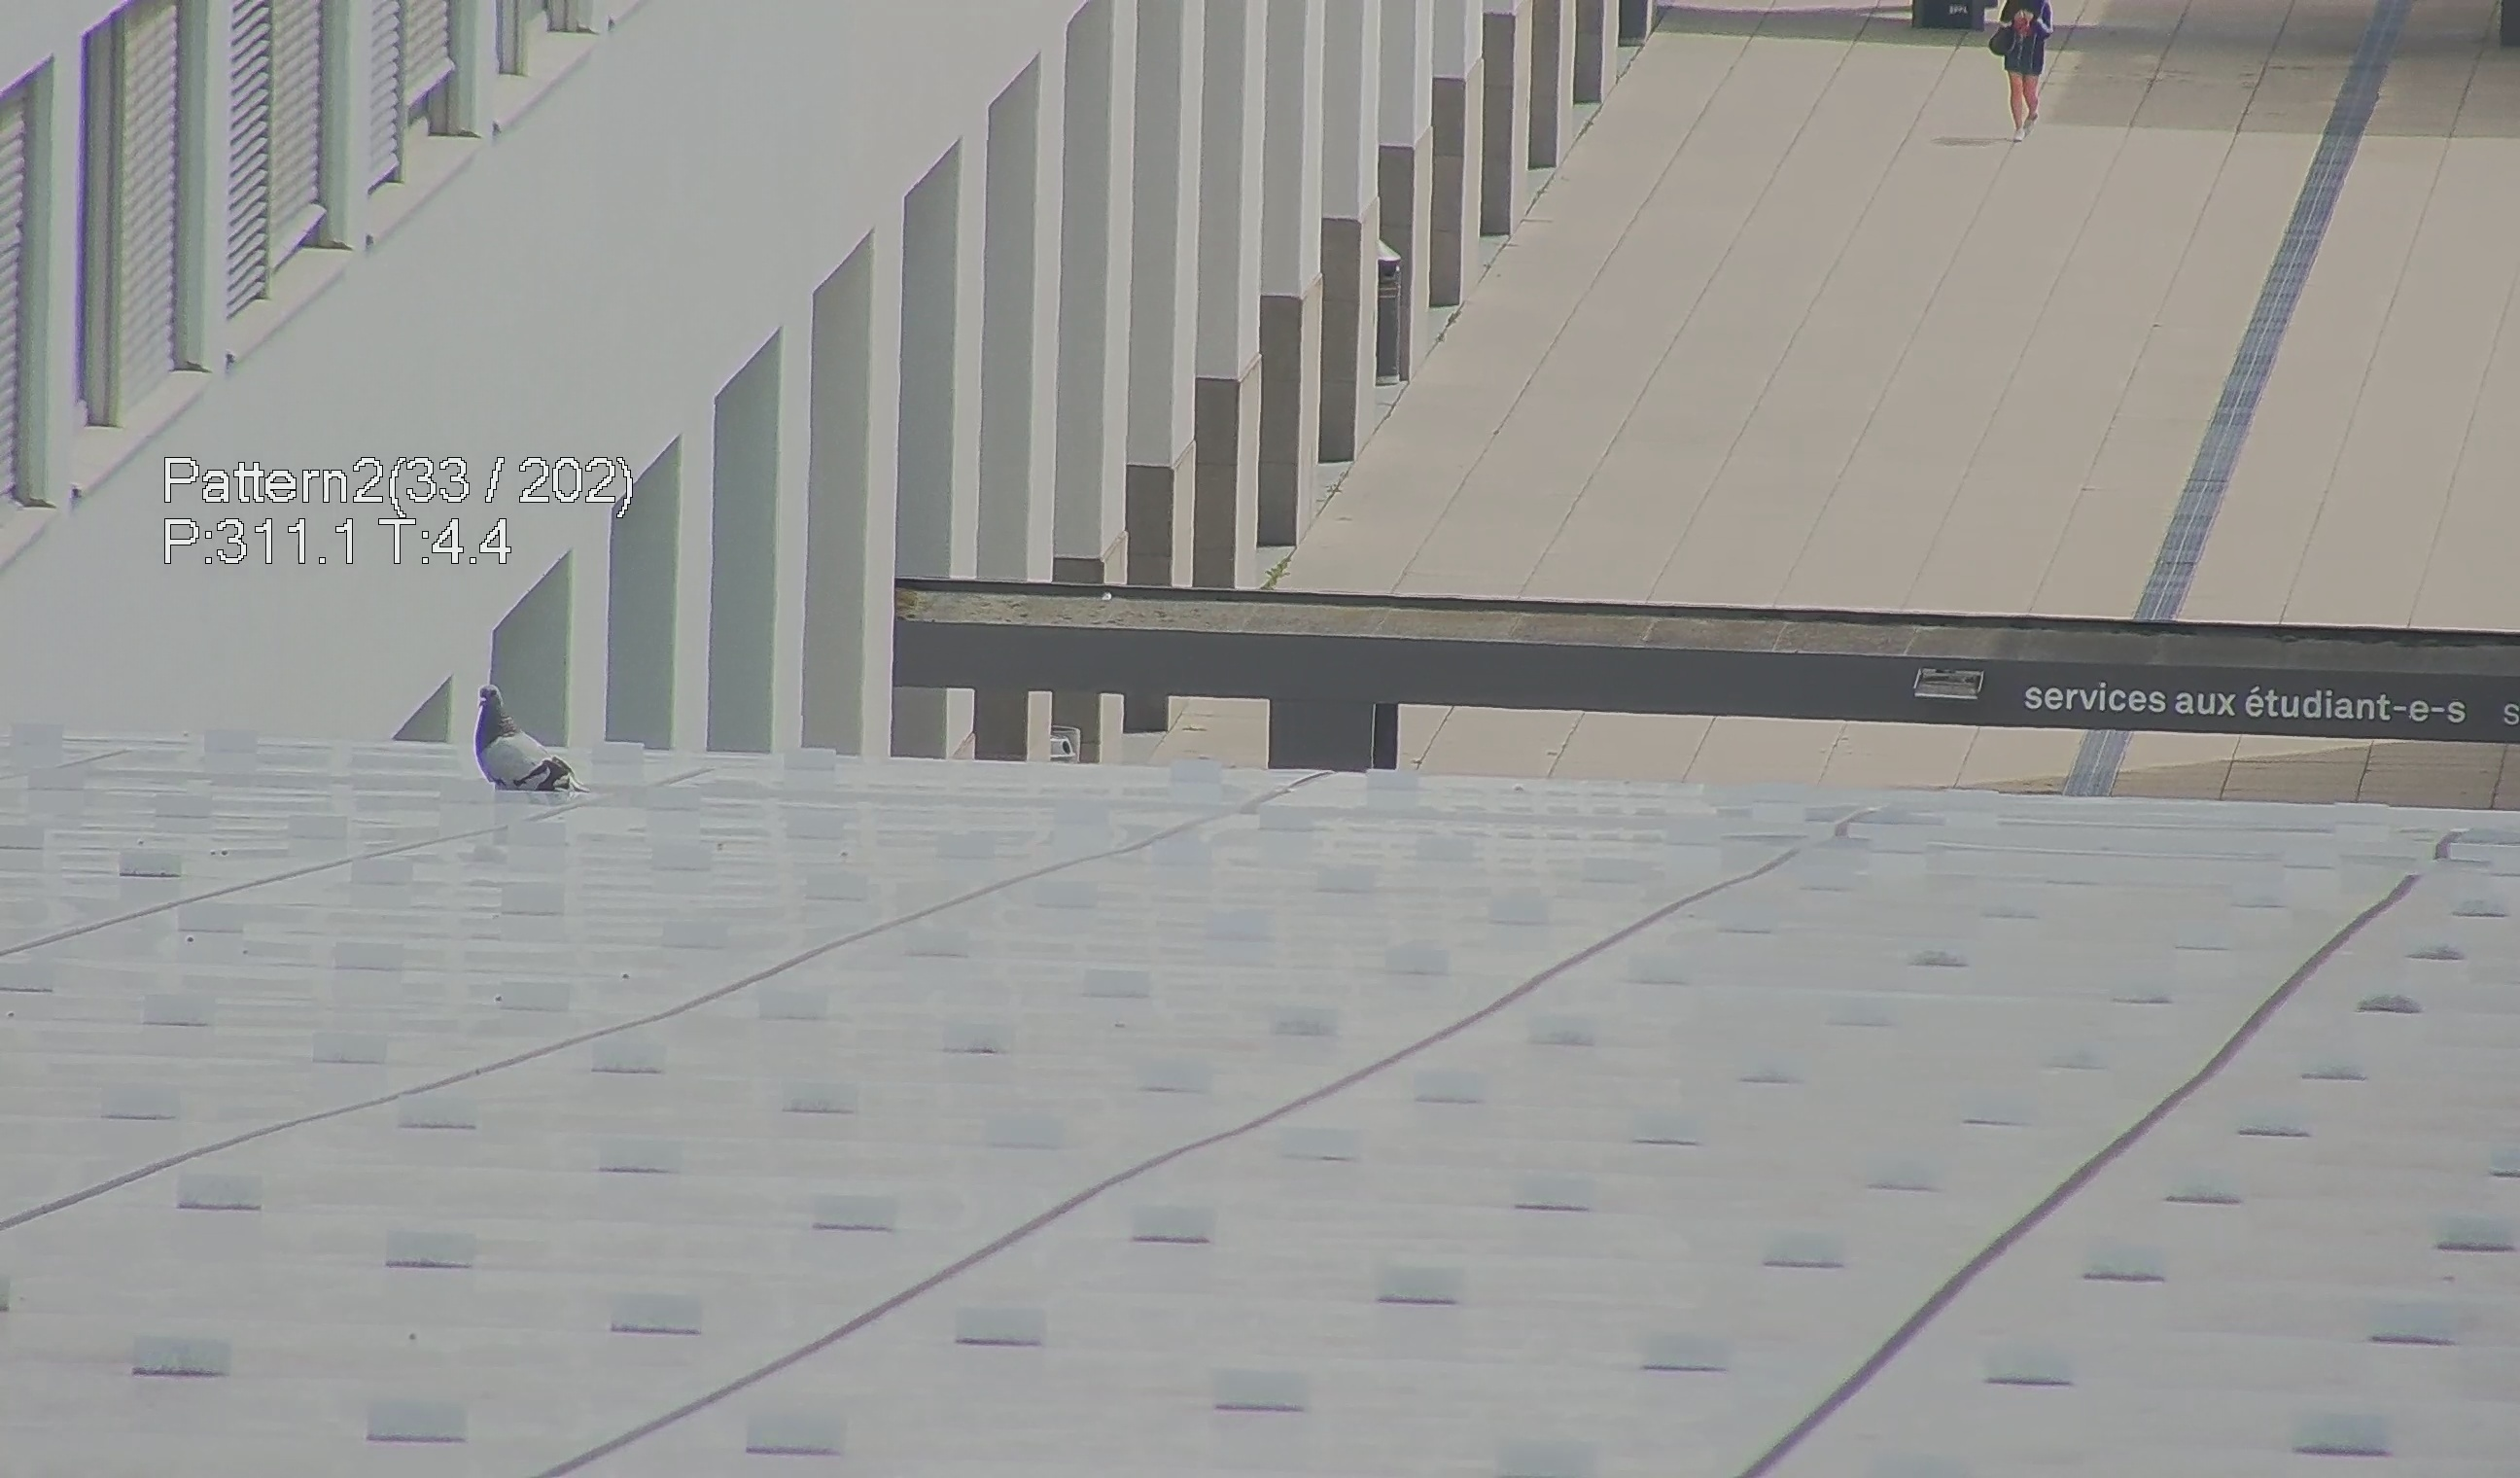Pigeon: (447, 676, 579, 811)
